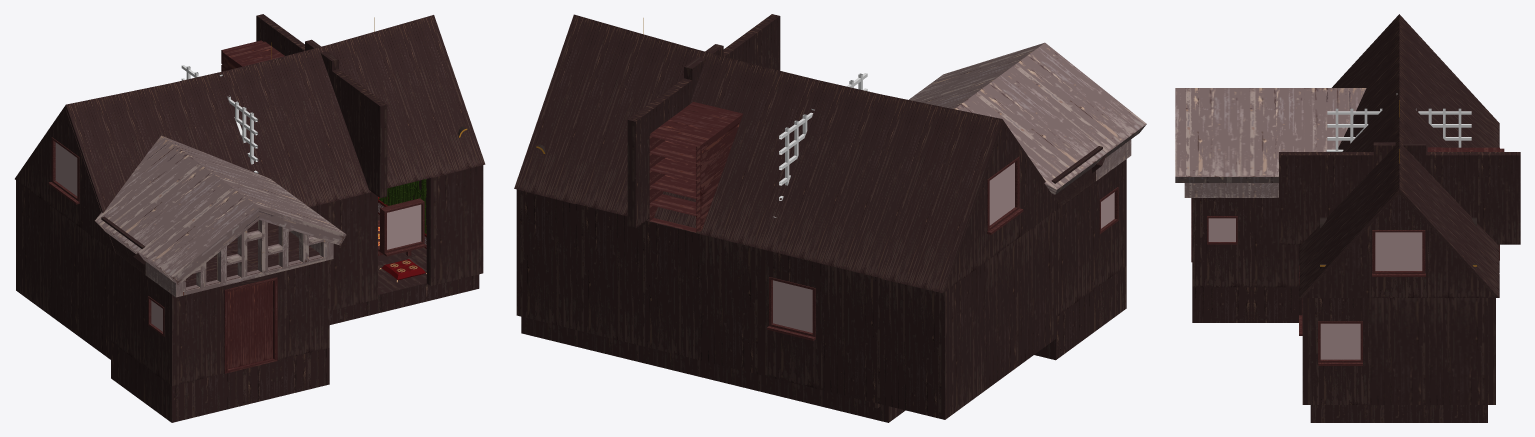
The model's file is house.fbx.
3 renders of one model, left to right at view 1: azimuth 30°, elevation 25°; view 2: azimuth 150°, elevation 25°; view 3: azimuth 270°, elevation 25°, orthographic. The views are drawn at different scales.
Visible parts, largest first — view 1: Box330, Box328, Box329, Box332, Box523, Box331, Box080, Box070, Box437, Box079, Box154, Box322 (+36 smaller); view 2: Box333, Box337, Box334, Box335, Box336, Box528, Box566, Box338, Box439, Box527, Box526, Box525 (+33 smaller); view 3: Box529, Box530, Box077, Box078, Box141, Box126, Box564, Box565, Box139, Box337, Box330, Box340 (+31 smaller).
Boxes of the visible parts, x1,y1,x2,y2 form: Box330: [381, 15, 485, 177]; Box328: [118, 71, 260, 174]; Box329: [224, 58, 327, 207]; Box332: [276, 44, 371, 202]; Box523: [426, 165, 483, 285]; Box331: [329, 30, 432, 188]; Box080: [139, 183, 259, 284]; Box070: [66, 94, 141, 212]; Box437: [325, 192, 377, 310]; Box079: [106, 159, 225, 260]; Box154: [280, 262, 322, 359]; Box322: [183, 220, 326, 295]; Box333: [881, 106, 1002, 293]; Box337: [514, 14, 634, 203]; Box334: [820, 94, 940, 278]; Box335: [759, 80, 879, 263]; Box336: [698, 65, 818, 248]; Box528: [884, 279, 949, 419]; Box566: [649, 102, 742, 232]; Box338: [575, 32, 696, 216]; Box439: [700, 234, 761, 374]; Box527: [822, 264, 883, 404]; Box526: [516, 189, 577, 330]; Box525: [639, 221, 700, 359]; Box529: [1369, 298, 1428, 404]; Box530: [1429, 298, 1487, 404]; Box077: [1175, 88, 1239, 182]; Box078: [1239, 88, 1303, 182]; Box141: [1192, 198, 1251, 287]; Box126: [1310, 298, 1369, 404]; Box564: [1473, 152, 1520, 244]; Box565: [1279, 152, 1326, 244]; Box139: [1251, 198, 1299, 287]; Box337: [1399, 166, 1499, 297]; Box330: [1299, 166, 1399, 297]; Box340: [1369, 194, 1428, 297].
Bounding box in the file's own units: 428 × 271 × 345.
